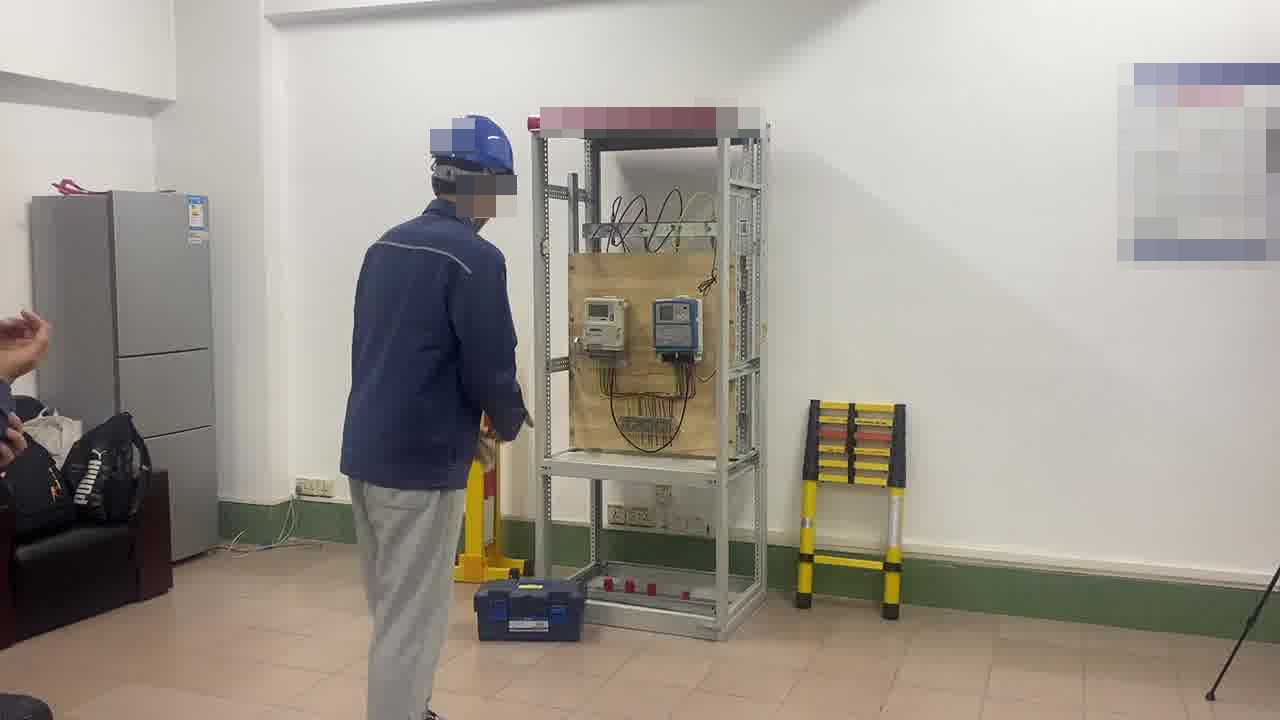downcloth: (351, 490, 469, 718)
halt: (428, 114, 519, 225)
hand: (1, 306, 50, 385)
noear: (485, 173, 502, 223)
person: (330, 111, 534, 718)
upsuit: (337, 204, 523, 485)
